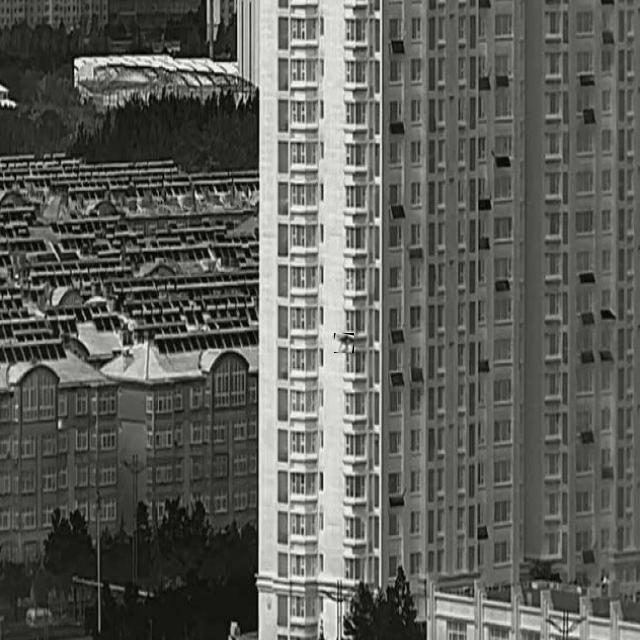drone: (334, 333, 354, 353)
